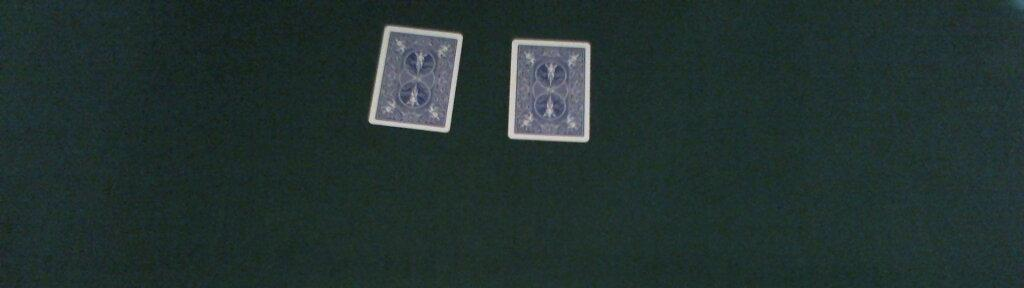back: (367, 24, 463, 132), (508, 39, 593, 143)
